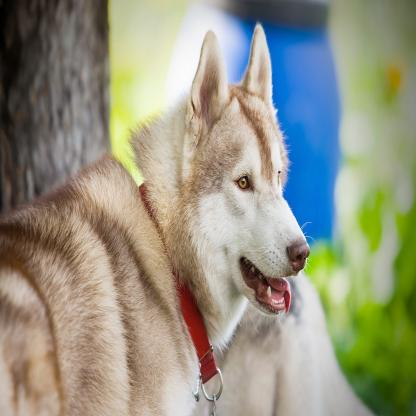husky: (0, 23, 312, 416)
